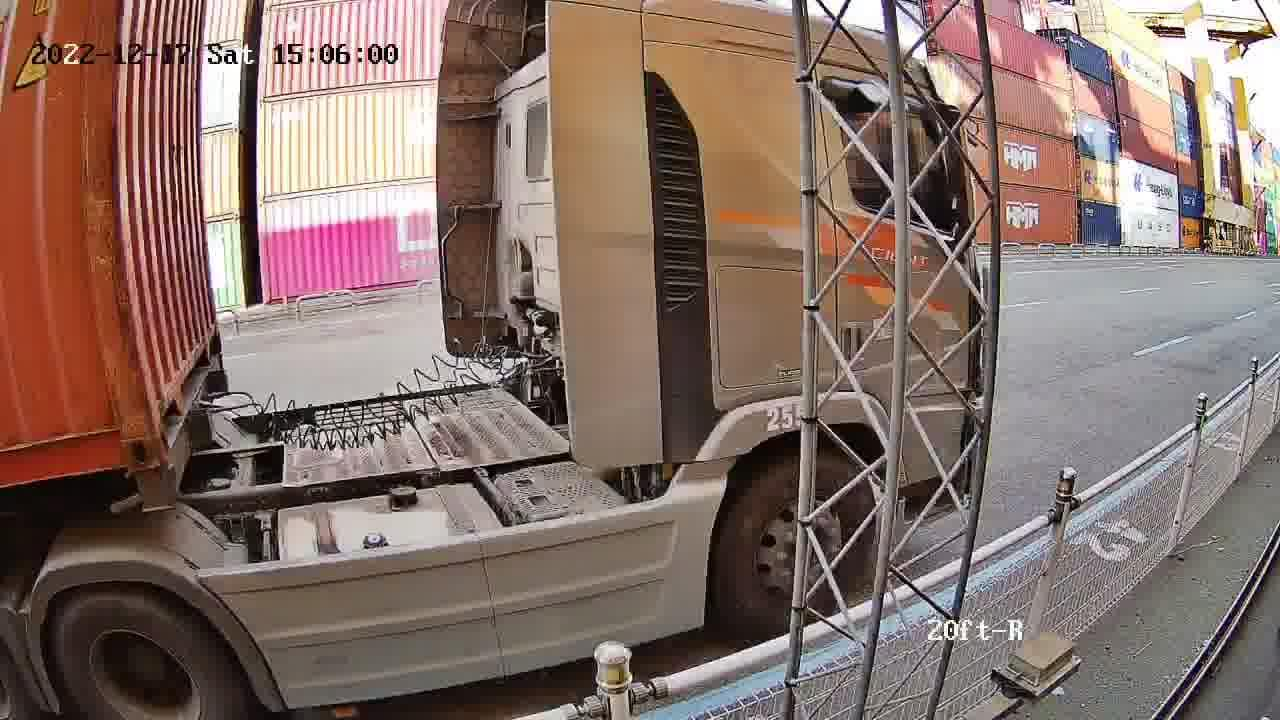Chassis: (169, 355, 228, 506)
Cone: (124, 471, 173, 514)
Hole_R: (86, 403, 162, 470)
Tire: (715, 462, 875, 632), (50, 593, 230, 713)
